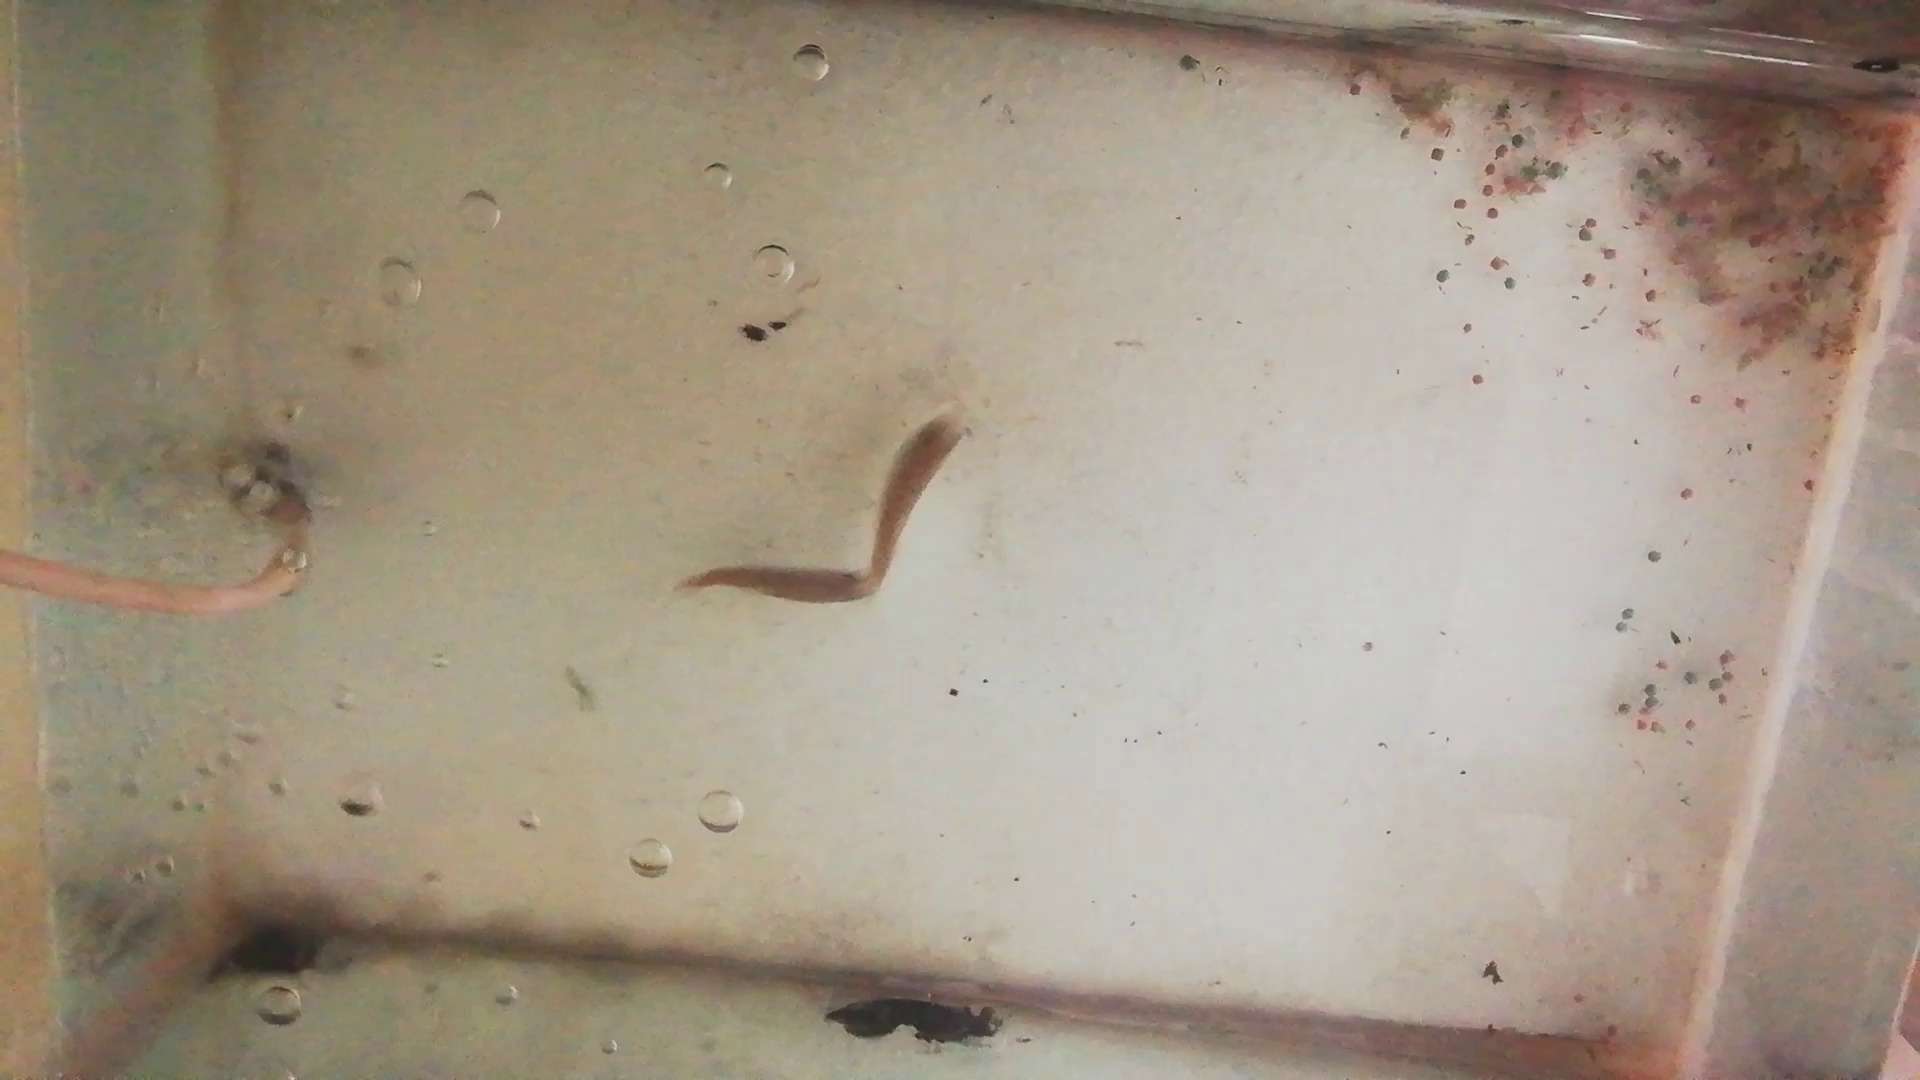fish: (866, 406, 972, 584), (680, 560, 873, 609)
